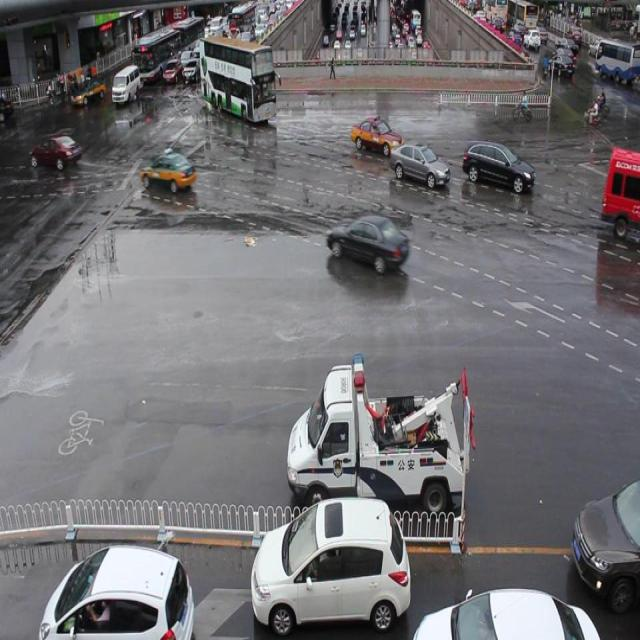bus: (287, 352, 473, 518)
car: (250, 493, 410, 632), (41, 544, 192, 640), (412, 585, 599, 640), (572, 481, 640, 609), (325, 213, 409, 271), (462, 139, 533, 194), (389, 140, 450, 189), (139, 151, 196, 195), (350, 117, 402, 158)
truck: (601, 144, 640, 239)
van: (198, 36, 276, 125)
